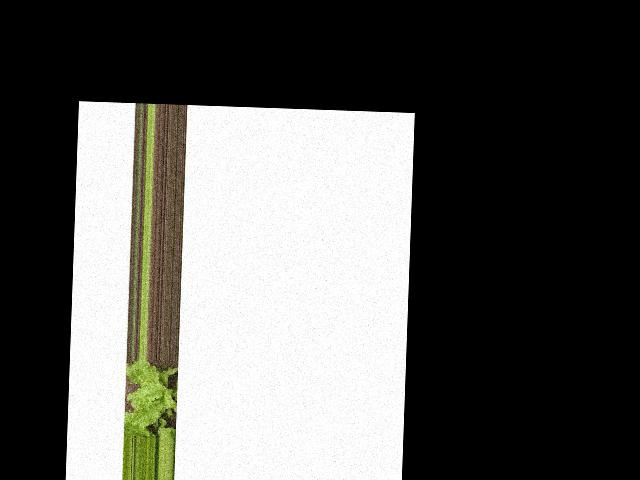lettuce: (126, 359, 181, 439)
